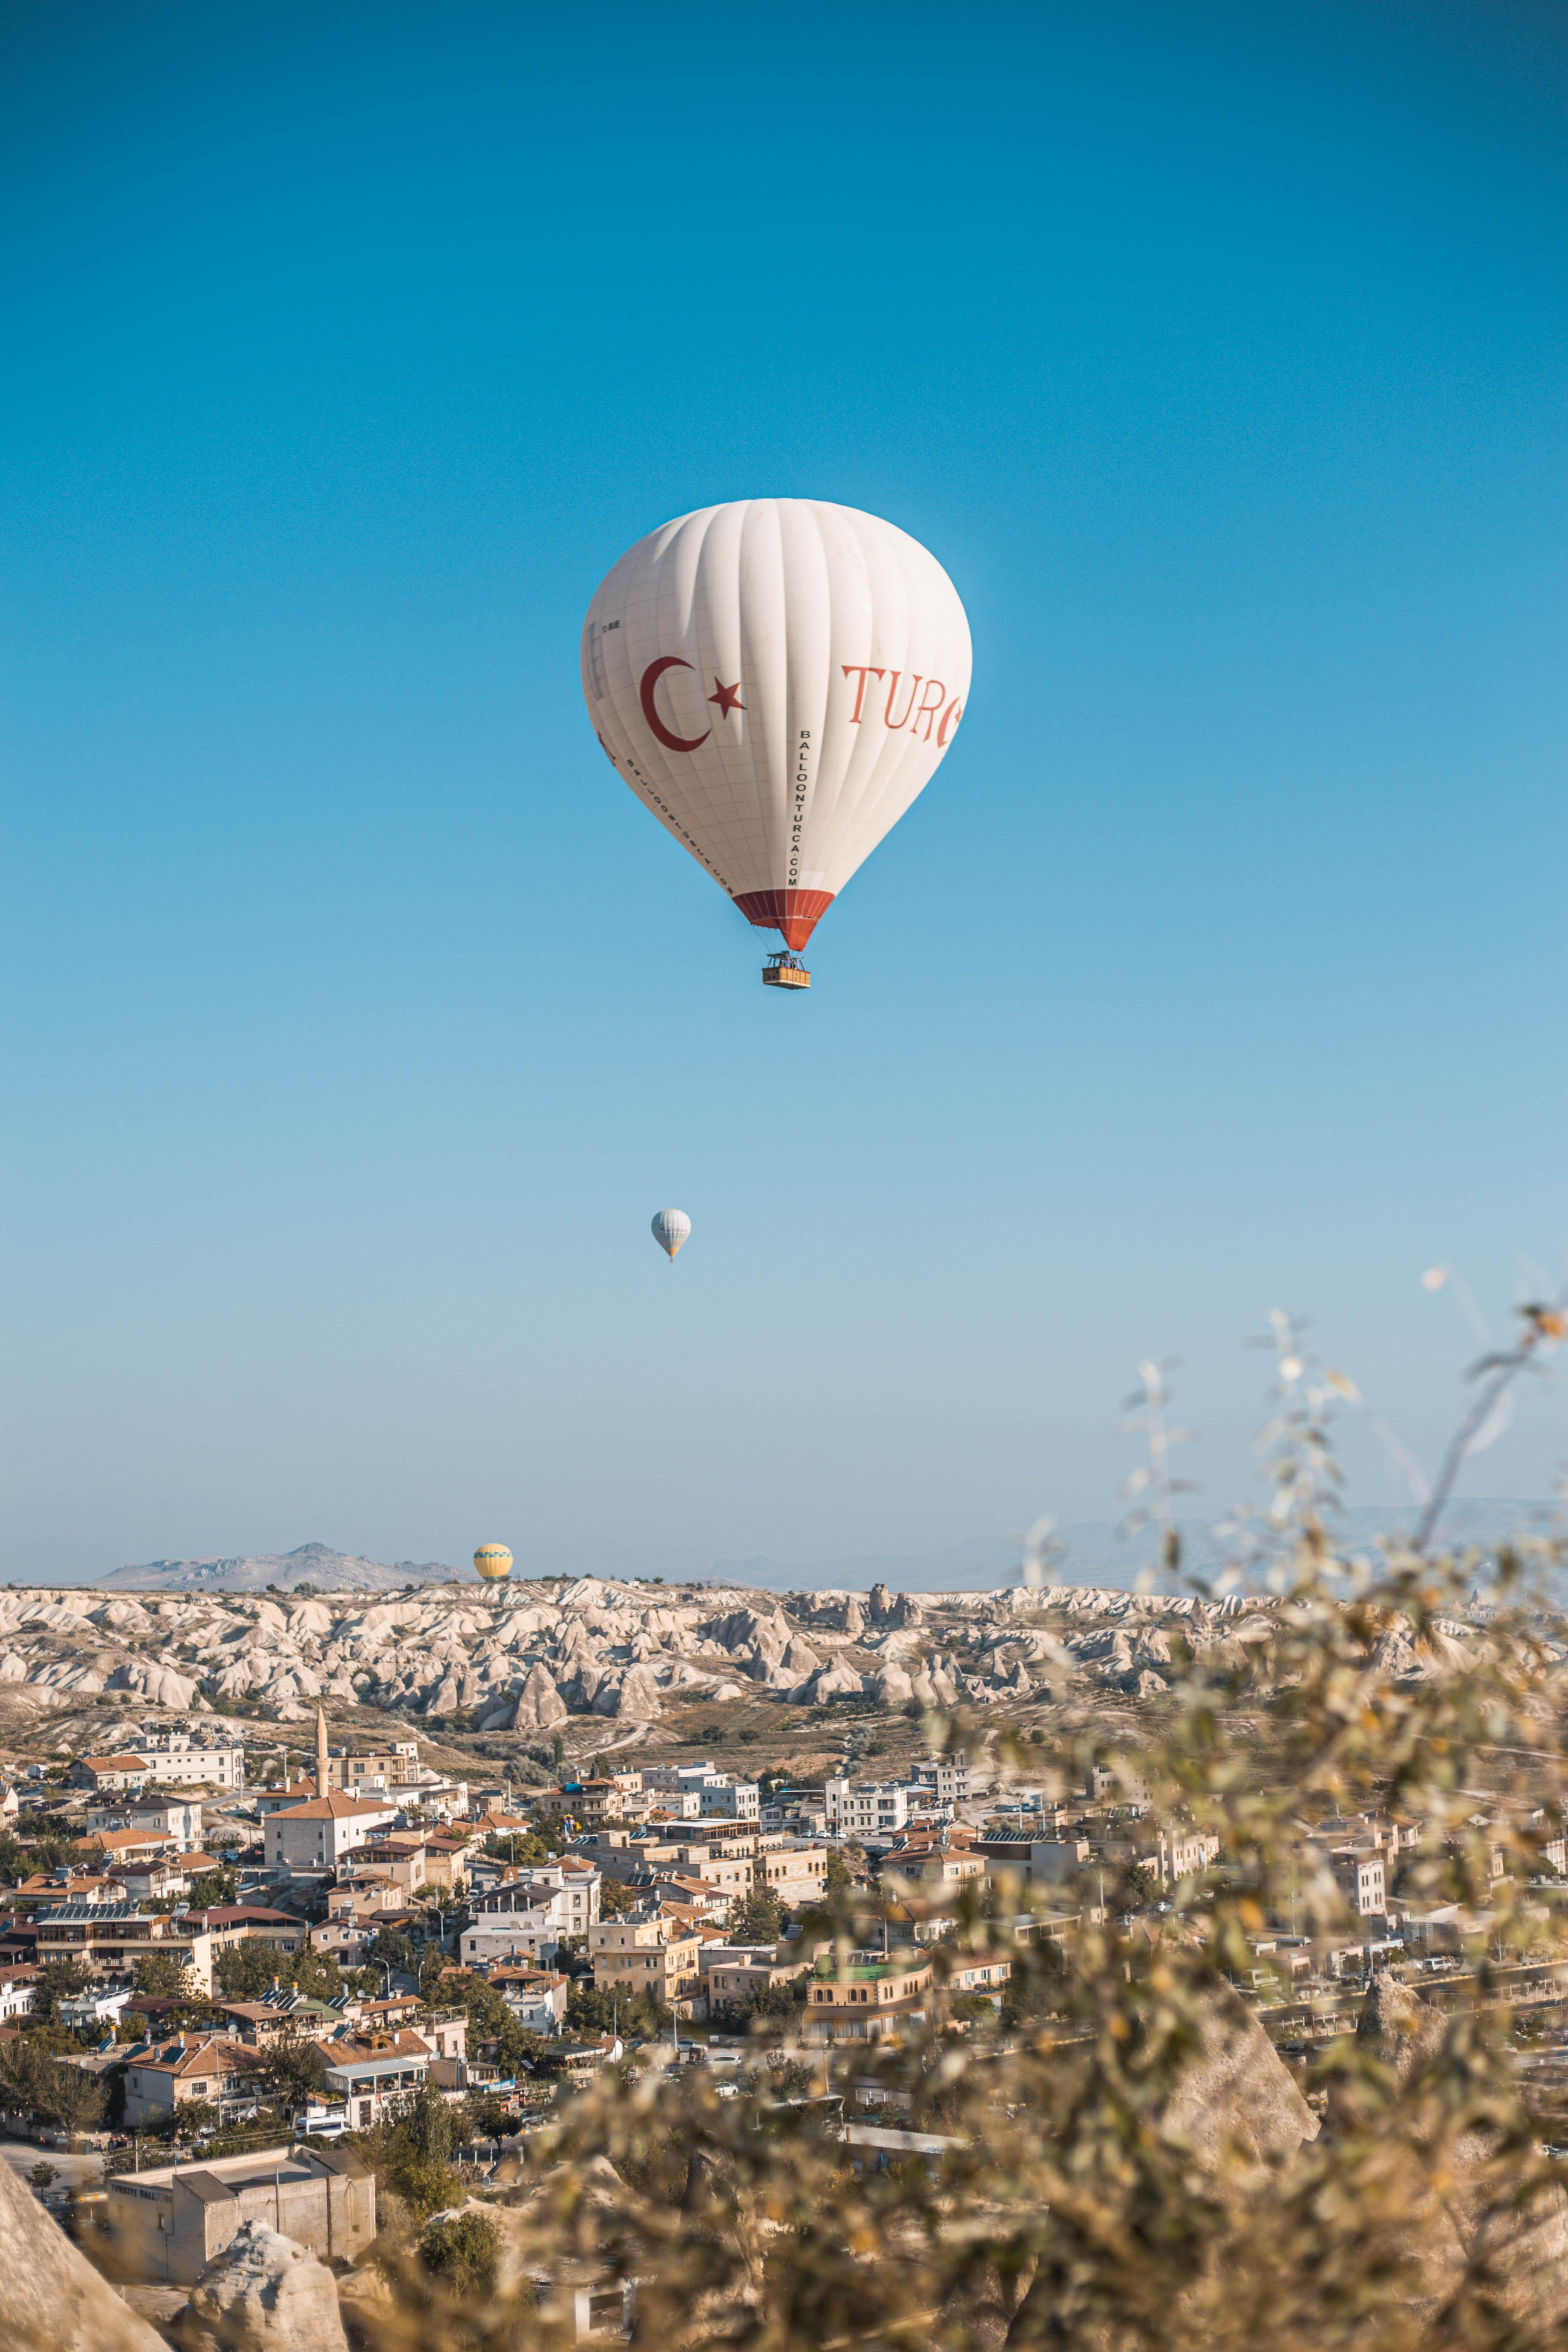hot air ballon: (576, 497, 978, 996), (649, 1209, 691, 1263), (474, 1543, 514, 1580)
